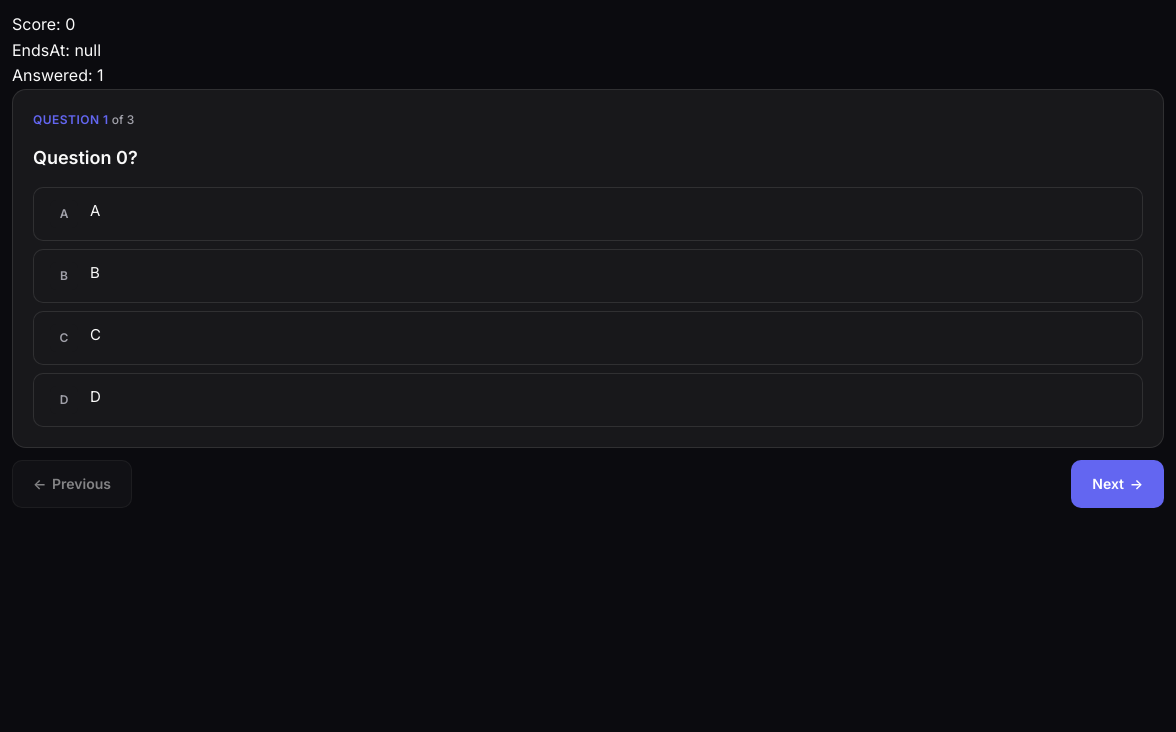
Test: useQuiz › restores answers an authoritative store holds, with no local draft
The image size is (1176, 732).
Expected: the element showing "A A B B C C D D" is shown, top-left (33, 187), bottom-right (1143, 427)
Expected: the text "Answered: 1" is shown, top-left (12, 65), bottom-right (104, 85)
Click the button "Next →". click: coordinates (1118, 484)
box: top-left (1071, 460), bottom-right (1164, 508)
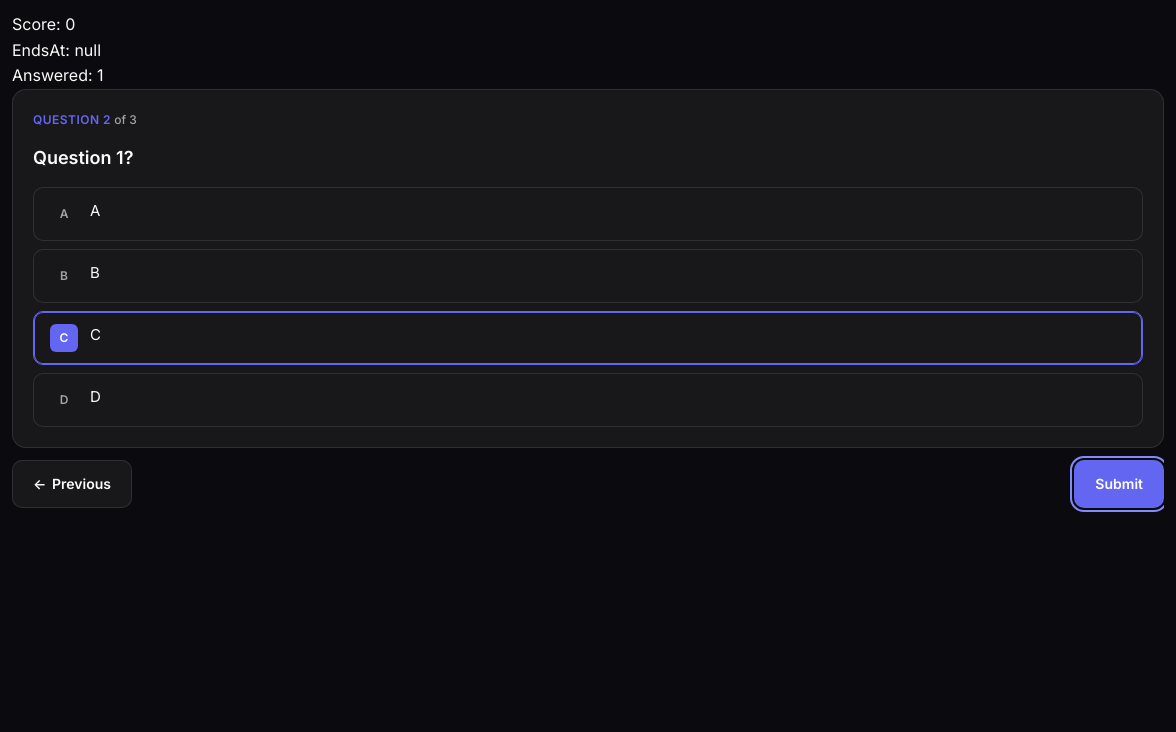
Expected: the radio button labelled "C C" is checked, top-left (33, 311), bottom-right (1143, 365)
